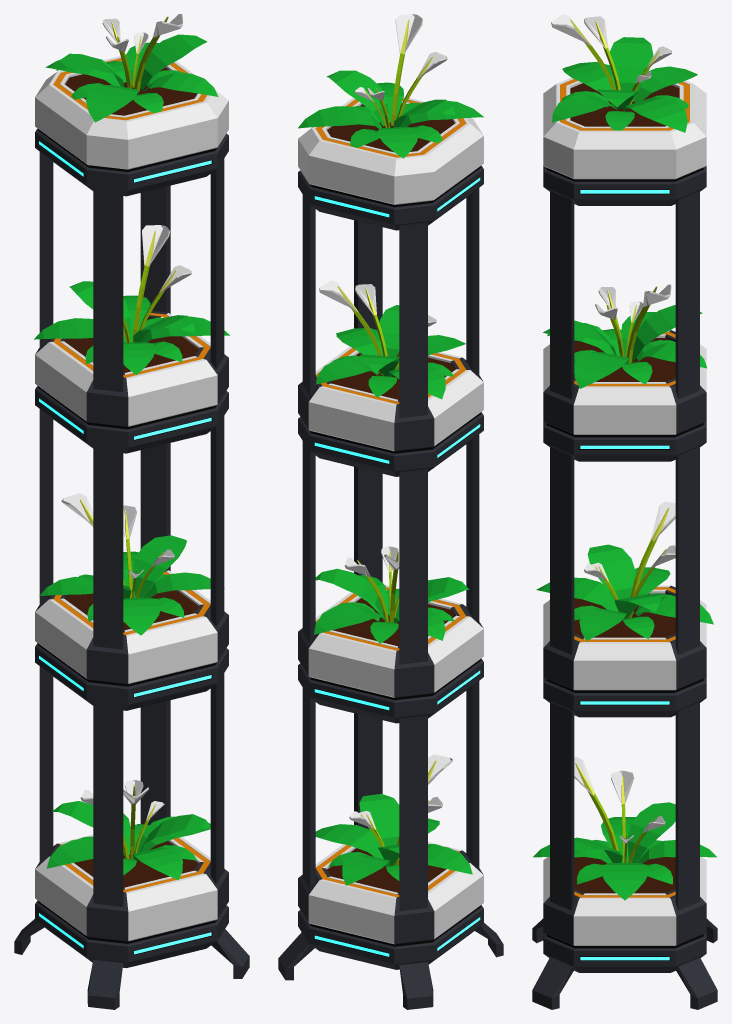
Rendered from SM_Botanical_TowerPlanter_Quad.fbx.
3 views of the same model, side by side, from view 1: azimuth 30°, elevation 25°; view 2: azimuth 150°, elevation 25°; view 3: azimuth 270°, elevation 25° (orthographic). The views are drawn at different scales.
Parts seen in each view (by area): view 1: SM_Botanical_TowerPlanter_Quad; view 2: SM_Botanical_TowerPlanter_Quad; view 3: SM_Botanical_TowerPlanter_Quad.
Boxes of the visible parts, bbox=[...] form: SM_Botanical_TowerPlanter_Quad: bbox=[14, 14, 249, 1009]; SM_Botanical_TowerPlanter_Quad: bbox=[278, 14, 503, 1009]; SM_Botanical_TowerPlanter_Quad: bbox=[532, 14, 717, 1009].
Bounding box in the file's own units: 34.72 × 187 × 32.89.
